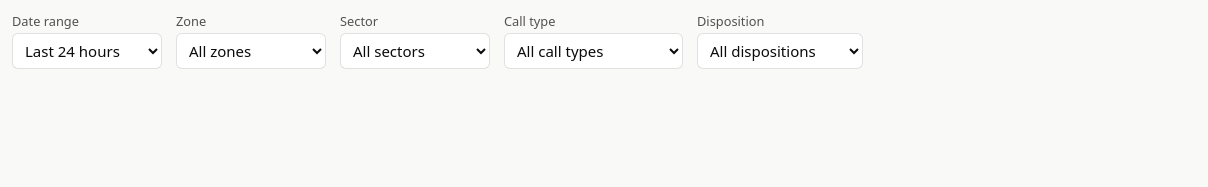
FilterBar › applies a custom range only when its dates are usable
Select "Custom dates" in the dropdown labelled "Date range": {"x": 87, "y": 51} [12,32,162,69]
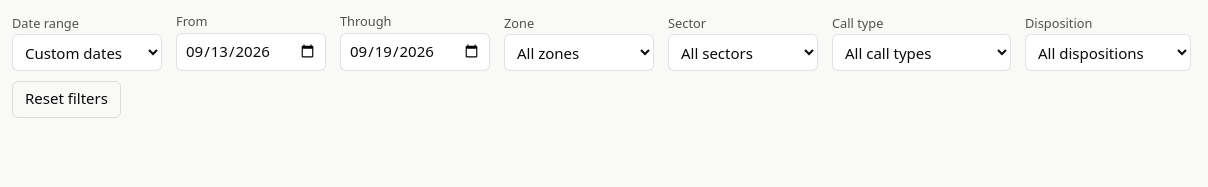
Expected: the date field labelled "From" holds "2026-09-13"
Expected: the date field labelled "Through" holds "2026-09-19", [340,32,490,71]
In the date field labelled "From": {"x": 251, "y": 52} [176,32,326,71], type "2026-09-20"
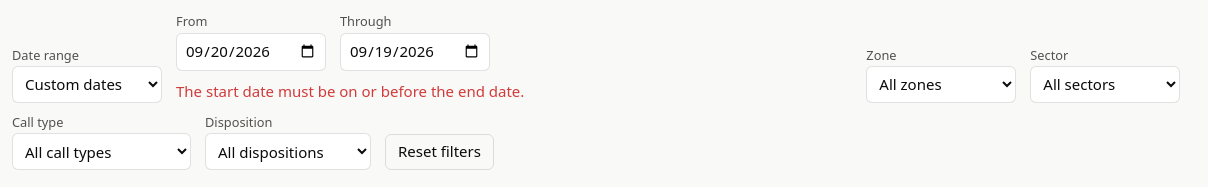
Expected: the message reads "The start date must be on or before the end date.", [176,81,524,101]
In the date field labelled "From": {"x": 251, "y": 52} [176,32,326,71], type "2026-09-01"
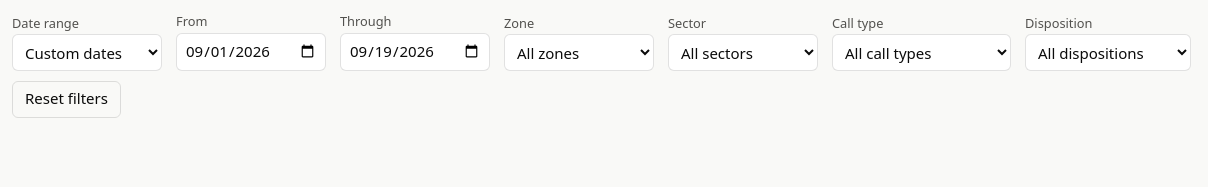
Expected: the message "The start date must be on or before the end date." is gone
In the date field labelled "Through": {"x": 415, "y": 52} [340,32,490,71], type "2026-09-15"
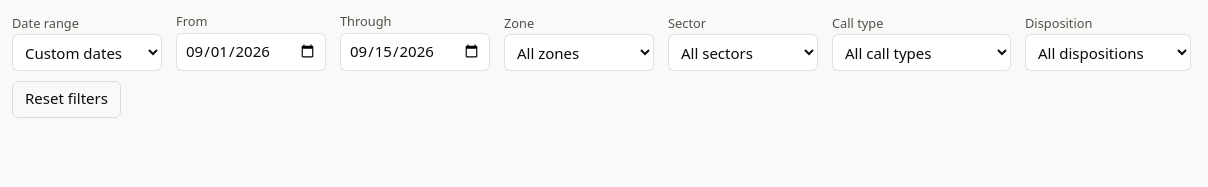
Select "Last 7 days" in the dropdown labelled "Date range": {"x": 87, "y": 53} [12,34,162,71]
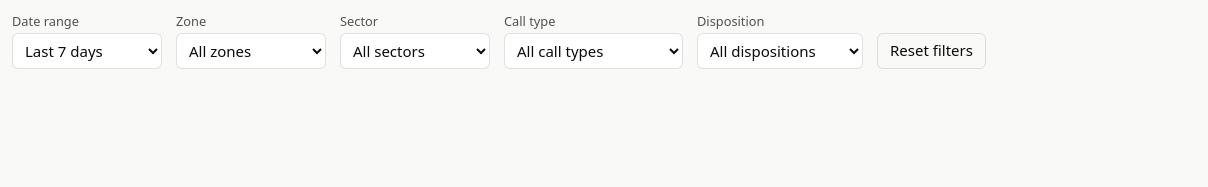
Expected: the label labelled "From" is gone
